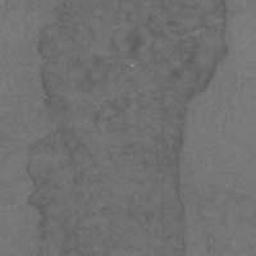Water spot: (26, 0, 230, 256)
